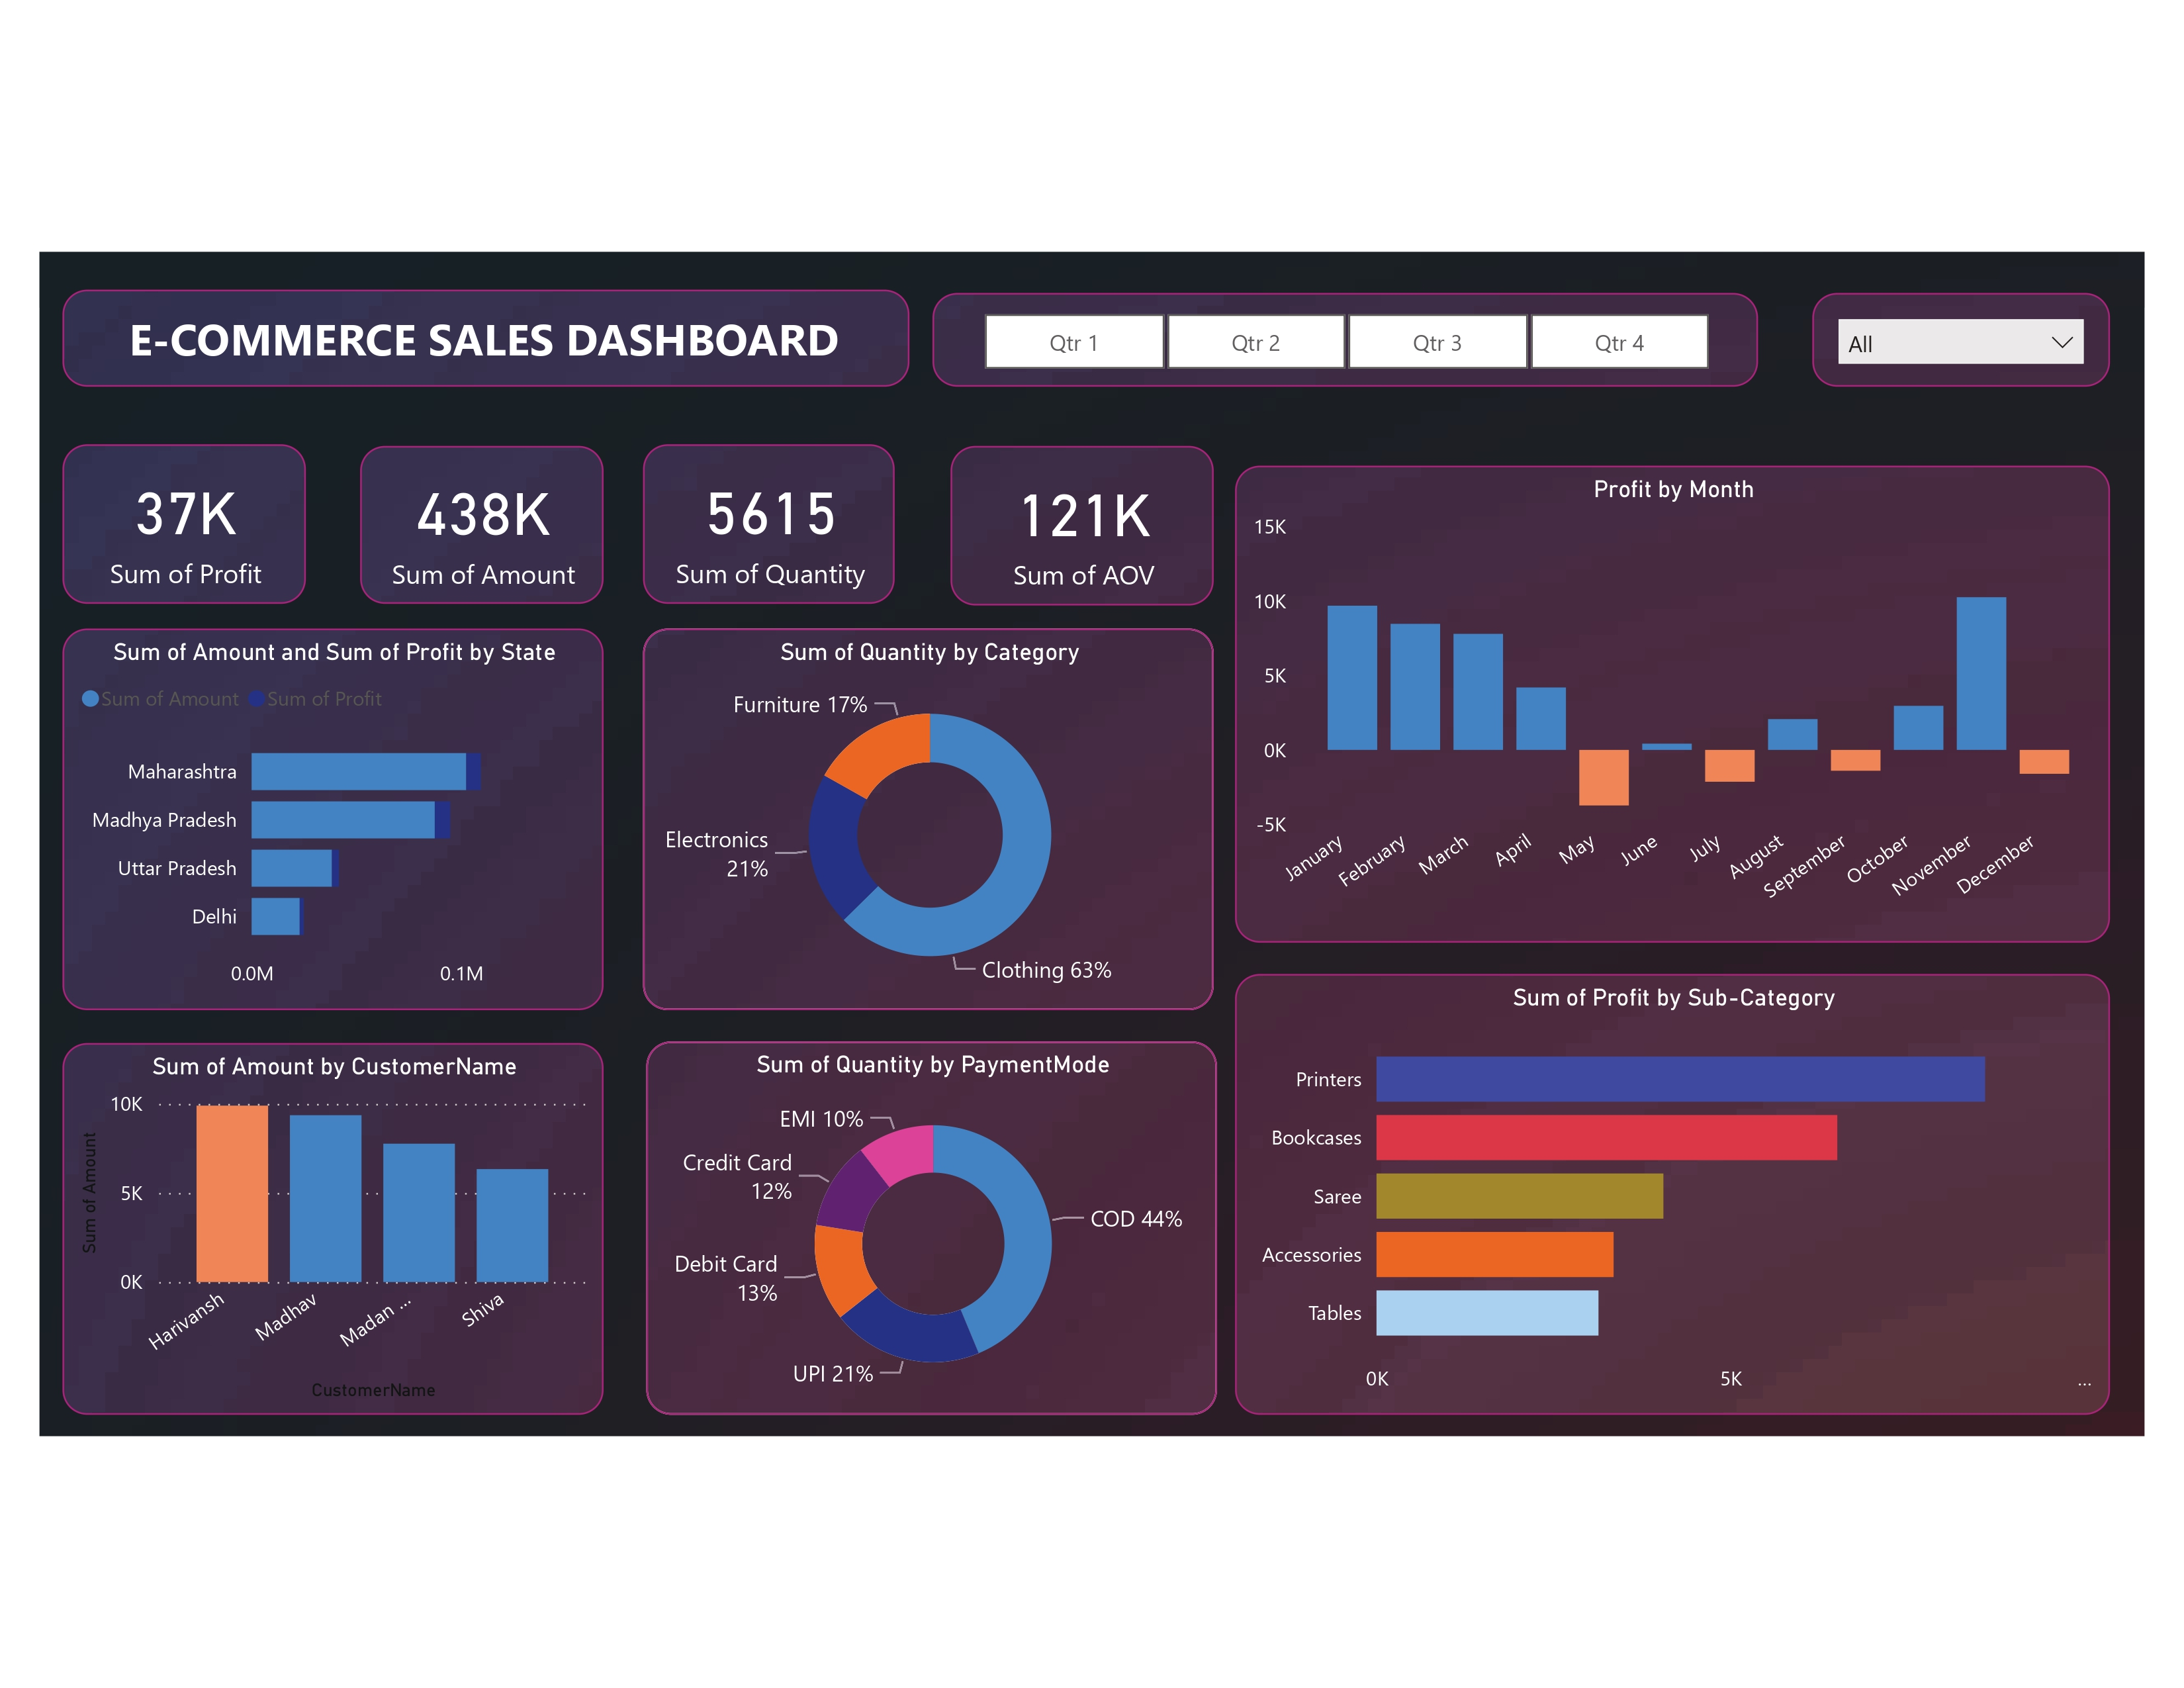

The dashboard page shown, as its layout file describes it:
{"tool":"powerbi","page":{"name":"Page 1","canvas":[1280,720],"ordinal":0},"visuals":[{"type":"textbox","box":[13.7,23.3,515.5,59],"z":0},{"type":"columnChart","title":"Profit by Month","fields":{"Y":["Details.Profit"],"Category":["Orders.Order Date.Variation.Date Hierarchy.Month"]},"box":[726.7,130.2,532,289.3],"z":1000},{"type":"barChart","fields":{"Category":["Details.Sub-Category"],"Y":["Details.Profit"]},"box":[726.7,438.7,532,268.7],"z":2000},{"type":"donutChart","fields":{"Y":["Details.Quantity"],"Category":["Details.Category"]},"box":[367.4,229,346.9,231.7],"z":3000},{"type":"donutChart","fields":{"Y":["Details.Quantity"],"Category":["Details.PaymentMode"]},"box":[368.8,479.9,346.9,227.6],"z":4000},{"type":"card","fields":{"Values":["Details.Amount"]},"box":[194.7,117.9,148.1,96],"z":5000},{"type":"card","fields":{"Values":["Details.Quantity"]},"box":[367.4,116.5,152.2,97.3],"z":6000},{"type":"card","fields":{"Values":["Details.Profit"]},"box":[13.7,116.5,148.1,97.3],"z":7000},{"type":"card","fields":{"Values":["Details.AOV"]},"box":[553.9,117.9,160.4,97.3],"z":8000},{"type":"barChart","fields":{"Category":["Orders.State"],"Y":["Details.Amount","Details.Profit"]},"box":[13.7,229,329.1,231.7],"z":9000},{"type":"columnChart","fields":{"Category":["Orders.CustomerName"],"Y":["Details.Amount"]},"box":[13.7,481.2,329.1,226.2],"z":10000},{"type":"slicer","fields":{"Values":["Orders.Order Date.Variation.Date Hierarchy.Quarter"]},"box":[542.9,24.7,501.8,57.6],"z":11000},{"type":"slicer","fields":{"Values":["Orders.State"]},"box":[1077.6,24.7,181,57.6],"z":12000}]}

Visuals, with their boxes in screenshot pixels (x1, y1, x2, y2):
textbox: select_region(0, 240, 866, 343)
"Profit by Month" columnChart: select_region(1211, 426, 2139, 931)
barChart - Details.Sub-Category x Details.Profit: select_region(1211, 964, 2139, 1433)
donutChart - Details.Quantity x Details.Category: select_region(584, 598, 1189, 1003)
donutChart - Details.Quantity x Details.PaymentMode: select_region(586, 1037, 1192, 1434)
card - Details.Amount: select_region(283, 405, 541, 573)
card - Details.Quantity: select_region(584, 402, 850, 572)
card - Details.Profit: select_region(0, 402, 226, 572)
card - Details.AOV: select_region(909, 405, 1189, 575)
barChart - Orders.State x Details.Amount: select_region(0, 598, 541, 1003)
columnChart - Orders.CustomerName x Details.Amount: select_region(0, 1039, 541, 1433)
slicer - Orders.Order Date.Variation.Date Hierarchy.Quarter: select_region(890, 242, 1766, 343)
slicer - Orders.State: select_region(1823, 242, 2139, 343)
